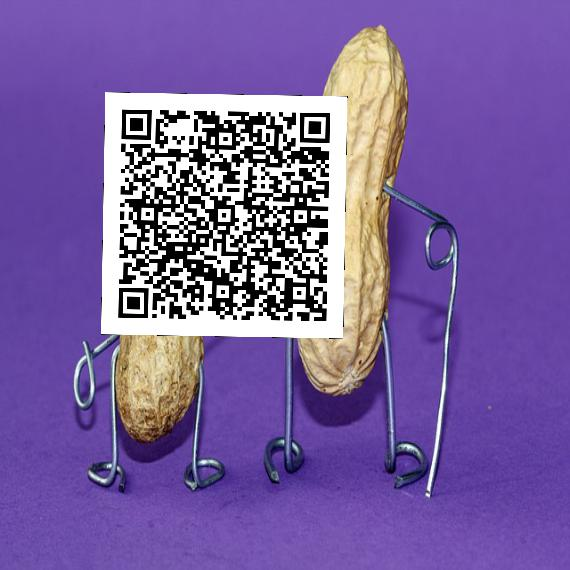qr_code: (101, 92, 347, 338)
